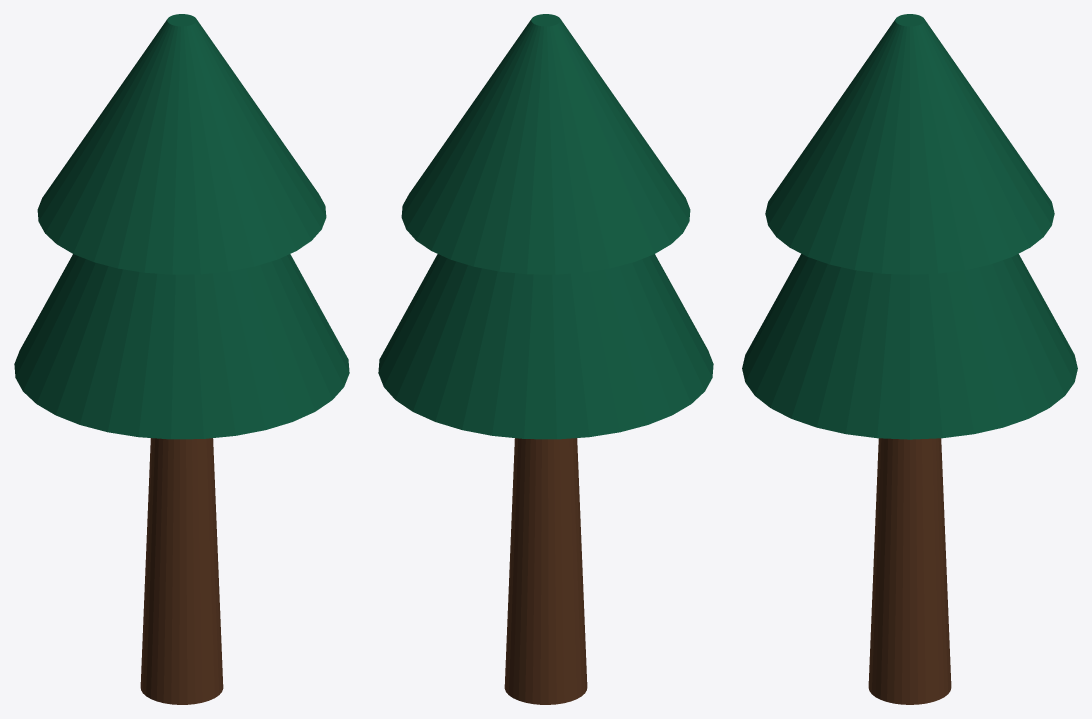
File: tree.glb
3 views of the same model, side by side, from view 1: azimuth 30°, elevation 25°; view 2: azimuth 150°, elevation 25°; view 3: azimuth 270°, elevation 25° (orthographic).
Visible parts, largest first — view 1: Tree; view 2: Tree; view 3: Tree.
Boxes of the visible parts, x1,y1,x2,y2 form: Tree: [14, 14, 349, 704]; Tree: [378, 14, 713, 704]; Tree: [742, 14, 1077, 704].
Size of what is drawn, in the model's own units: 6.8 by 14.91 by 6.8.
